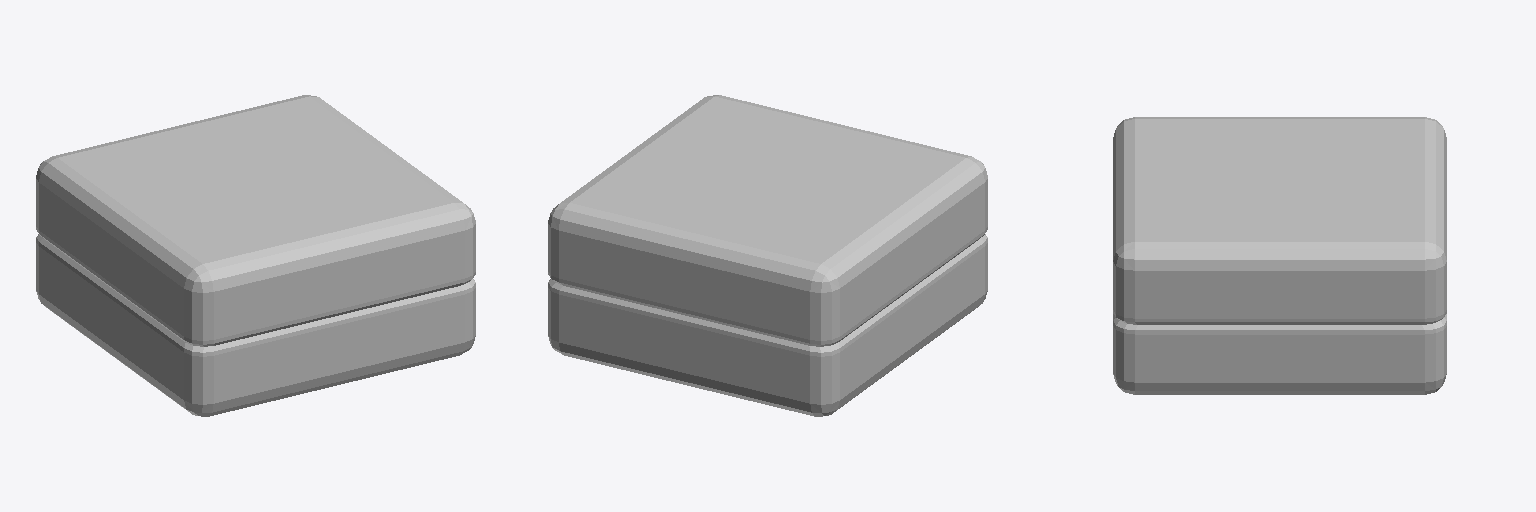
The model's file is tileLow_forest.obj.
3 views of the same model, side by side, from view 1: azimuth 30°, elevation 25°; view 2: azimuth 150°, elevation 25°; view 3: azimuth 270°, elevation 25° (orthographic).
Visible parts, largest first — view 1: tileLow_forest_Cube.707; view 2: tileLow_forest_Cube.707; view 3: tileLow_forest_Cube.707.
Boxes of the visible parts, box(x1,y1,x2,y2) form: tileLow_forest_Cube.707: box(36, 95, 475, 416); tileLow_forest_Cube.707: box(548, 95, 987, 416); tileLow_forest_Cube.707: box(1113, 117, 1446, 394).
Size of the model in its own units: 2 by 1 by 2.